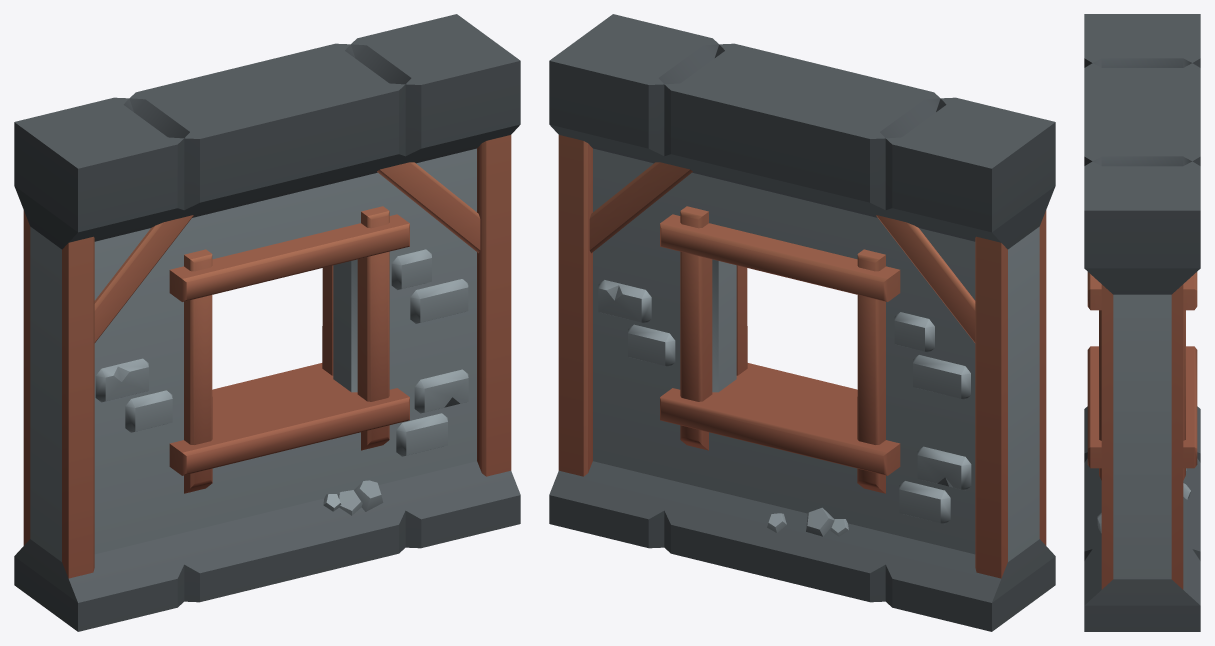
File: wall_window_open_scaffold.gltf
The picture shows the model from 3 angles, left to right: view 1: azimuth 30°, elevation 25°; view 2: azimuth 150°, elevation 25°; view 3: azimuth 270°, elevation 25°; orthographic projection. The views are drawn at different scales.
Visible parts, largest first — view 1: wall_window_open_scaffold; view 2: wall_window_open_scaffold; view 3: wall_window_open_scaffold.
Part boxes in pixels (x1,y1,x2,y2): wall_window_open_scaffold: (14, 14, 520, 631); wall_window_open_scaffold: (549, 14, 1055, 631); wall_window_open_scaffold: (1084, 14, 1200, 631).
Bounding box in the file's own units: 4 × 4 × 1.
Materials: 1 (1 with a texture image).
